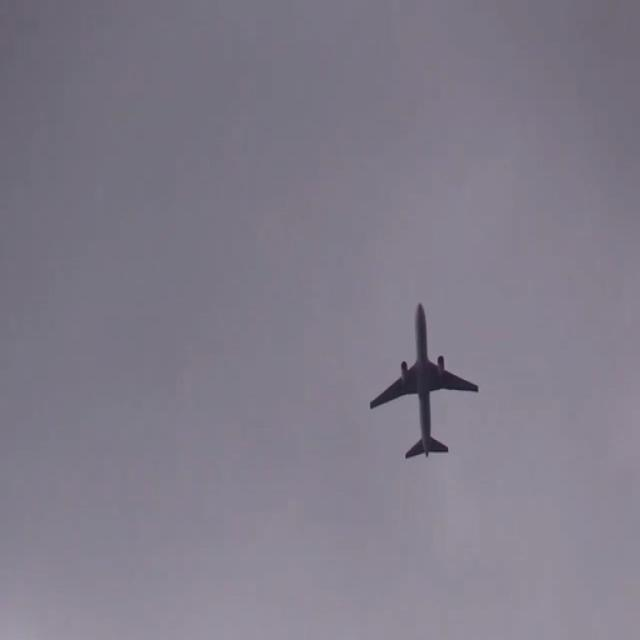AirPlane: (362, 288, 488, 472)
